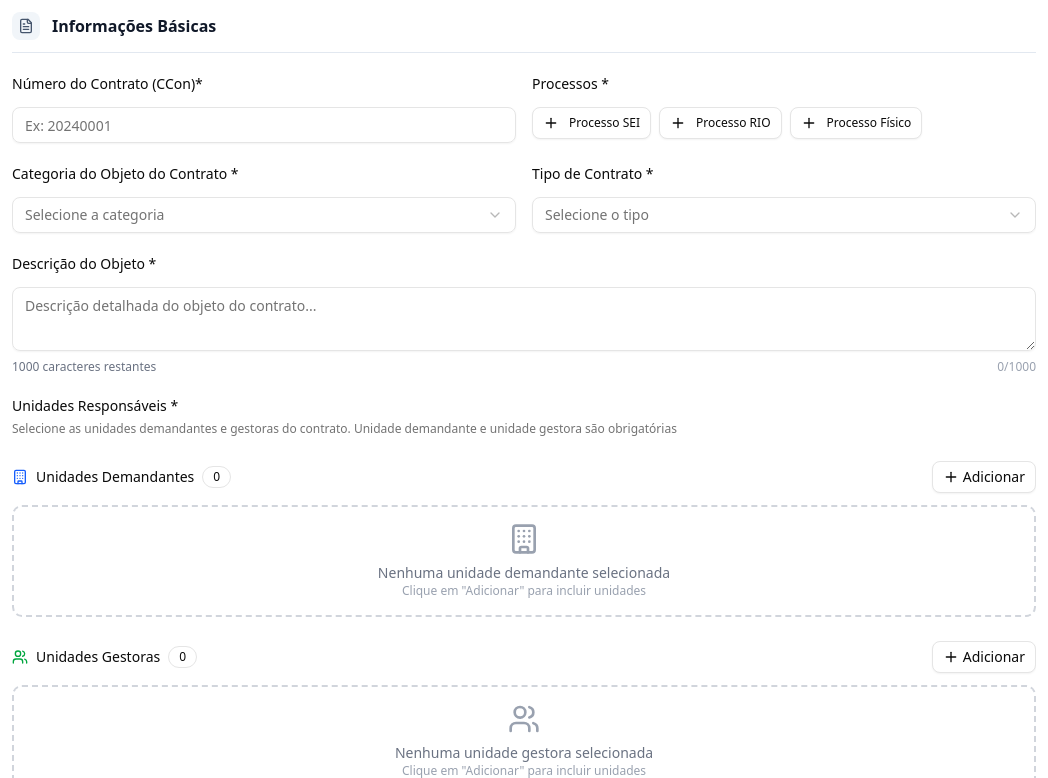
ContratoForm › Funcionalidades de Processos › deve permitir remover processos adicionados
This screenshot has width=1048, height=778.
Note: Adicionar um processo
Click the button "Processo SEI". click: coordinates (592, 123)
box: [532,107,651,139]
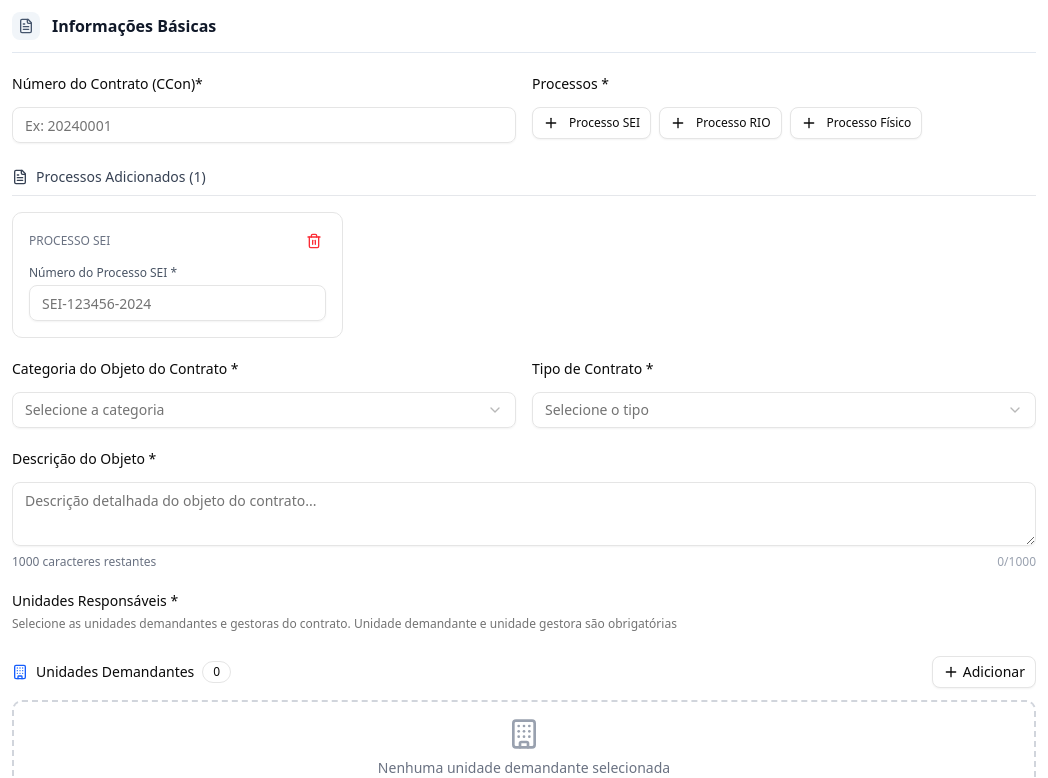
Check: the field with placeholder "SEI-123456-2024" is shown, box [29,285,326,321]
Note: Remover o processo
Click the 4th button. click: coordinates (314, 241)
box: [302,229,326,253]
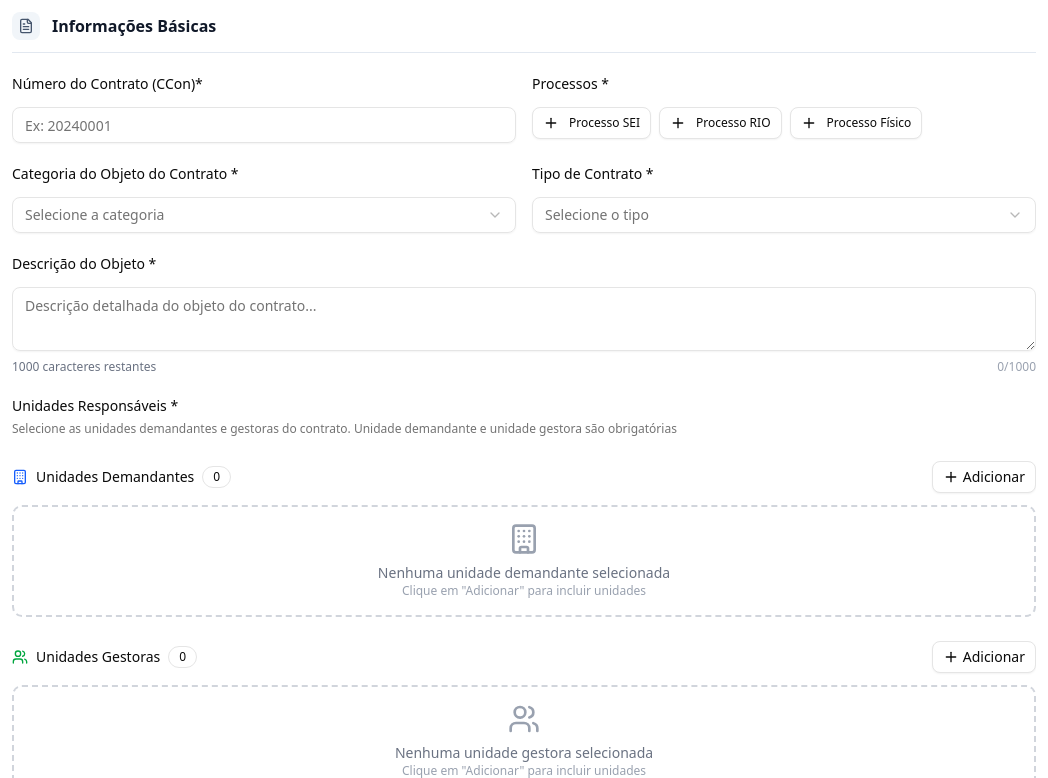
Check: the field with placeholder "SEI-123456-2024" is gone
